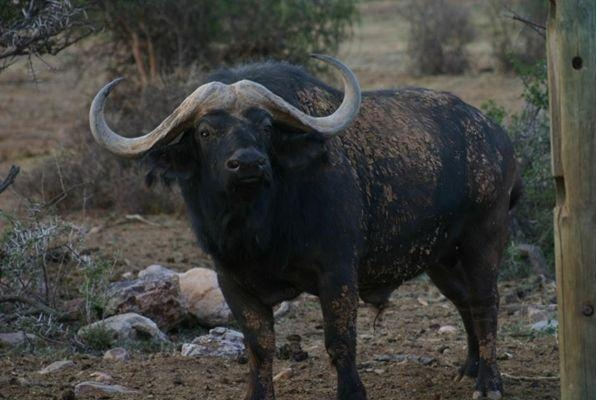buffalo: (89, 54, 525, 399)
